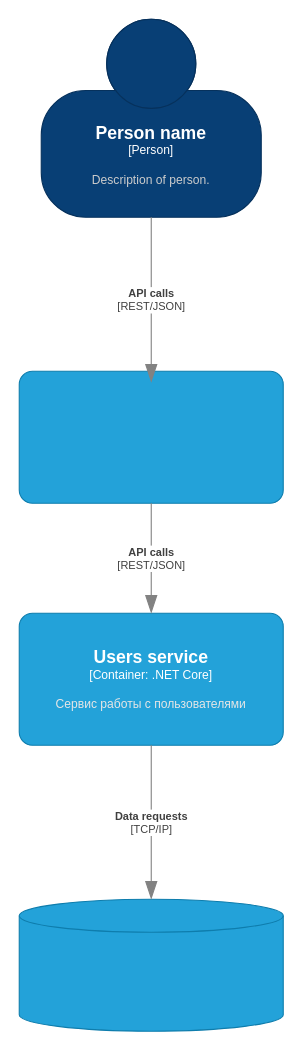
The diagram is 303 pixels wide and 1051 high, and some of its shapes have lost their labels. Each missing label, with the centre of its shape:
"Ingress [Container: nginx] Шлюз" belongs at pixel 150 436.
"Users DB [Container: Postgres] БД пользователей" belongs at pixel 150 964.
